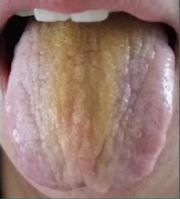huangtaishe: (4, 12, 175, 193)
liewenshe: (91, 141, 107, 179)
